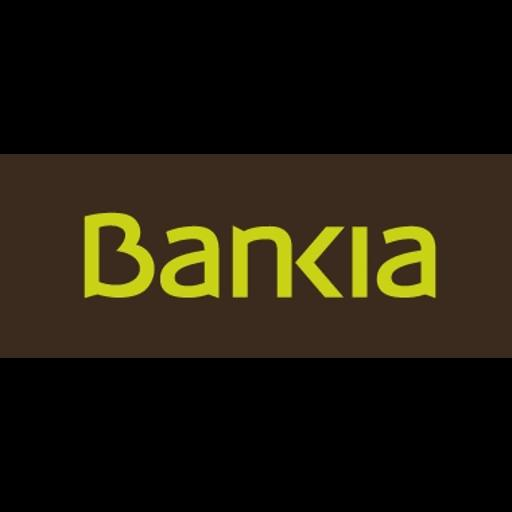Bankia: (0, 154, 512, 358)
